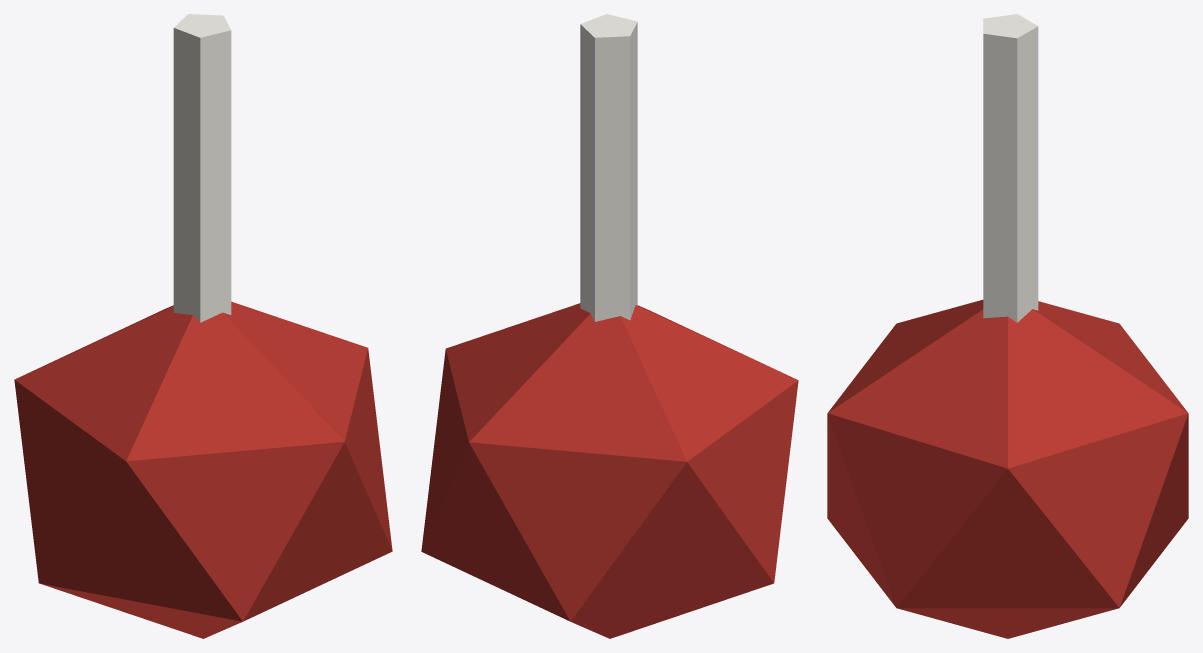
Rendered from boj.glb.
3 renders of one model, left to right at view 1: azimuth 30°, elevation 25°; view 2: azimuth 150°, elevation 25°; view 3: azimuth 270°, elevation 25°, orthographic.
Parts seen in each view (by area): view 1: boj; view 2: boj; view 3: boj.
Part boxes in pixels (x1,y1,x2,y2): boj: [14, 14, 392, 638]; boj: [421, 14, 798, 638]; boj: [827, 14, 1188, 638].
Bounding box in the file's own units: 0.6261 × 1.12 × 0.5954.
